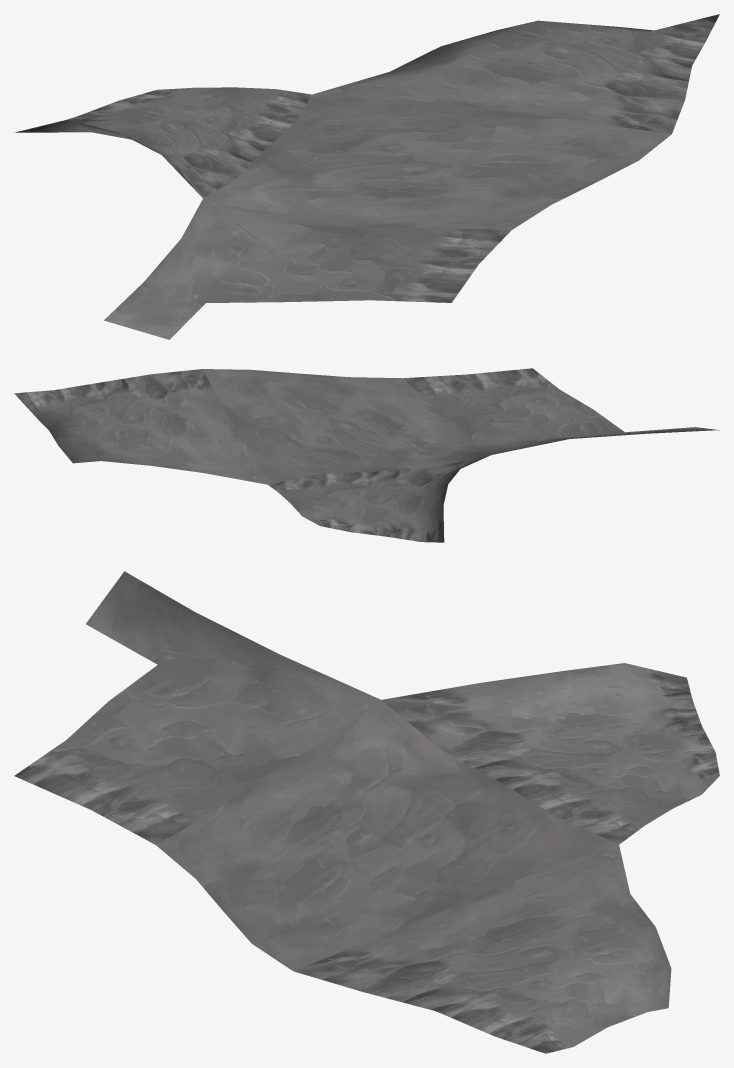
Rendered from SWORDLIGHT20_PS-AREA03_148.obj.
3 views of the same model, one above another, from view 1: azimuth 30°, elevation 25°; view 2: azimuth 150°, elevation 25°; view 3: azimuth 270°, elevation 25° (orthographic). The views are drawn at different scales.
Parts seen in each view (by area): view 1: PS-Area03_148; view 2: PS-Area03_148; view 3: PS-Area03_148.
Part boxes in pixels (left/top/right/bottom): PS-Area03_148: left=15, top=14, right=719, bottom=339; PS-Area03_148: left=14, top=368, right=719, bottom=542; PS-Area03_148: left=14, top=571, right=719, bottom=1053.
Size of the model in its own units: 2162 by 134 by 1387.
